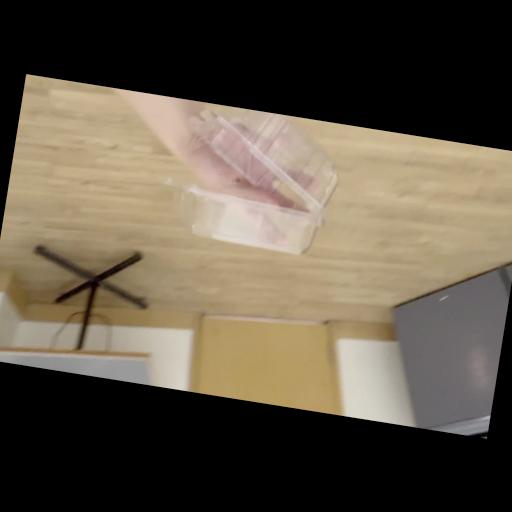small_plastic_container: (146, 96, 348, 263)
